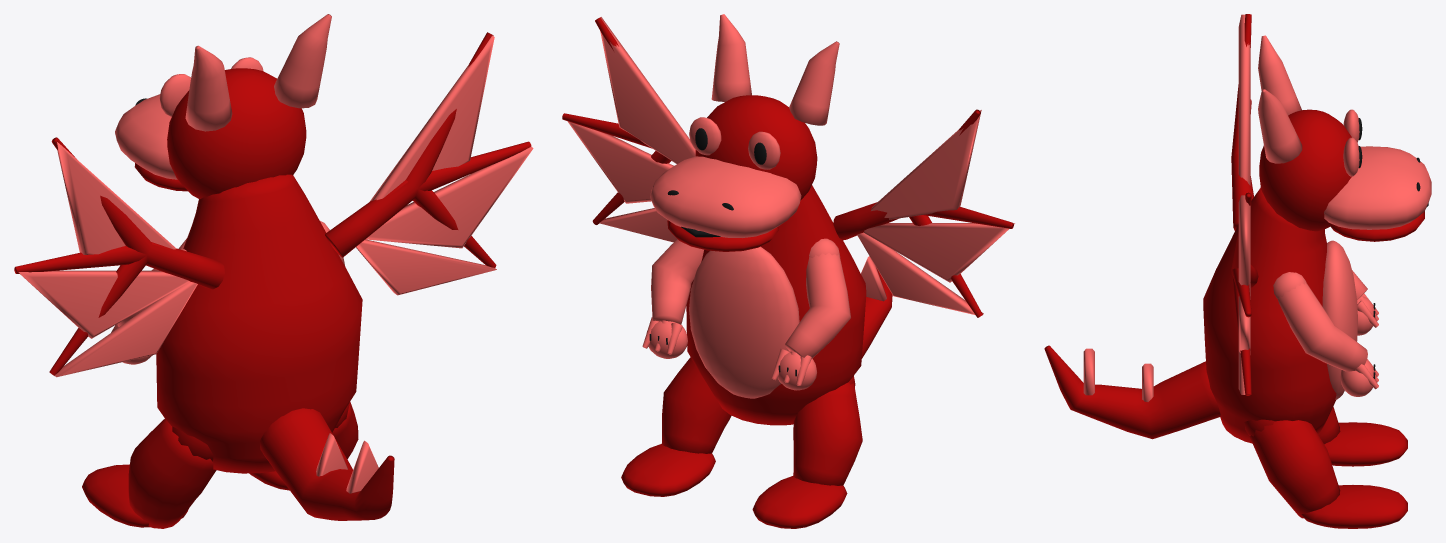
Rendered from Dragon.glb.
3 views of the same model, side by side, from view 1: azimuth 30°, elevation 25°; view 2: azimuth 150°, elevation 25°; view 3: azimuth 270°, elevation 25° (orthographic). The views are drawn at different scales.
Visible parts, largest first — view 1: Body, Head, RightWing, LeftWing, Tail, LeftLeg, RightLeg; view 2: Body, Head, LeftWing, RightWing, LeftLeg, RightLeg, LeftArm, RightArm, Tail, Jaw; view 3: Body, Head, RightLeg, Tail, RightArm, LeftLeg, LeftWing, RightWing, Jaw, LeftArm.
Part boxes in pixels (left/top/right/bottom): Body: left=156, top=174, right=362, bottom=473; Head: left=115, top=14, right=331, bottom=198; RightWing: left=325, top=32, right=533, bottom=295; LeftWing: left=14, top=137, right=224, bottom=377; Tail: left=260, top=408, right=394, bottom=520; LeftLeg: left=82, top=419, right=216, bottom=528; RightLeg: left=249, top=402, right=358, bottom=490; Body: left=686, top=185, right=866, bottom=425; Head: left=650, top=14, right=839, bottom=237; LeftWing: left=833, top=109, right=1014, bottom=317; RightWing: left=562, top=17, right=695, bottom=242; LeftLeg: left=752, top=376, right=862, bottom=528; RightLeg: left=621, top=357, right=731, bottom=496; LeftArm: left=771, top=238, right=850, bottom=390; RightArm: left=642, top=239, right=703, bottom=358; Tail: left=861, top=256, right=892, bottom=358; Jaw: left=667, top=220, right=778, bottom=251; Body: left=1203, top=187, right=1357, bottom=443; Head: left=1258, top=35, right=1431, bottom=231; RightLeg: left=1244, top=419, right=1407, bottom=528; Tail: left=1044, top=345, right=1220, bottom=439; RightArm: left=1273, top=272, right=1378, bottom=396; LeftLeg: left=1318, top=406, right=1407, bottom=466; LeftWing: left=1231, top=14, right=1253, bottom=230; RightWing: left=1231, top=192, right=1258, bottom=395; Jaw: left=1330, top=203, right=1428, bottom=241; LeftArm: left=1352, top=270, right=1378, bottom=335.
Size of the model in its own units: 1.71 by 1.6 by 1.31.
Materials: 1 (1 with a texture image).
